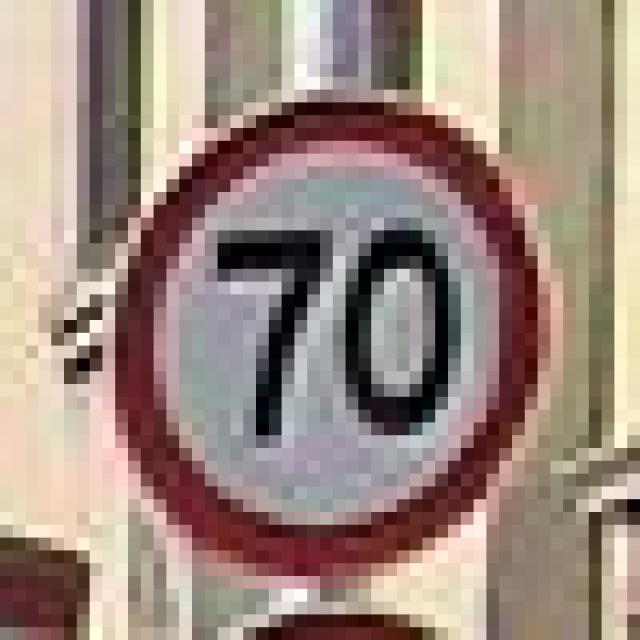SPEED_LIMIT_70: (102, 90, 538, 563)
